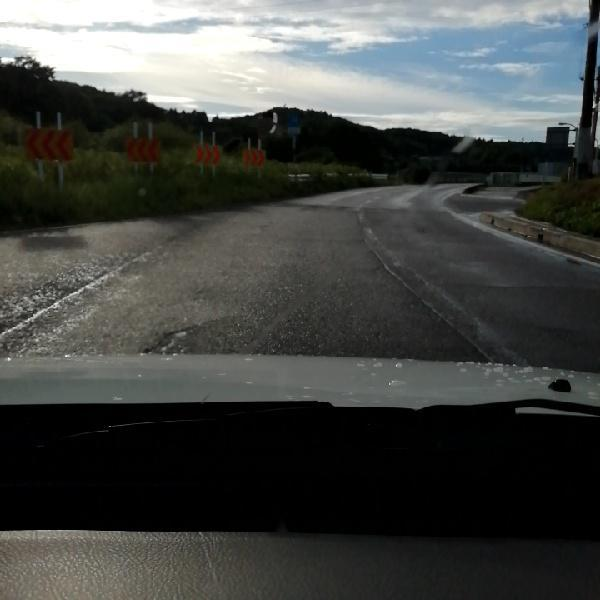D40: (142, 316, 205, 352)
